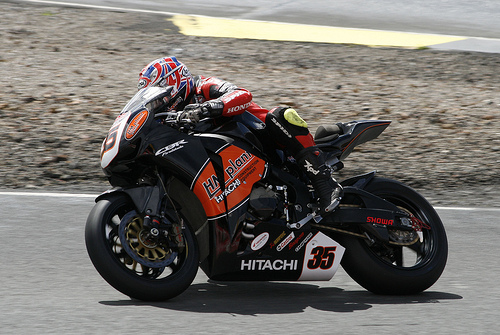helmet: (139, 57, 193, 96)
